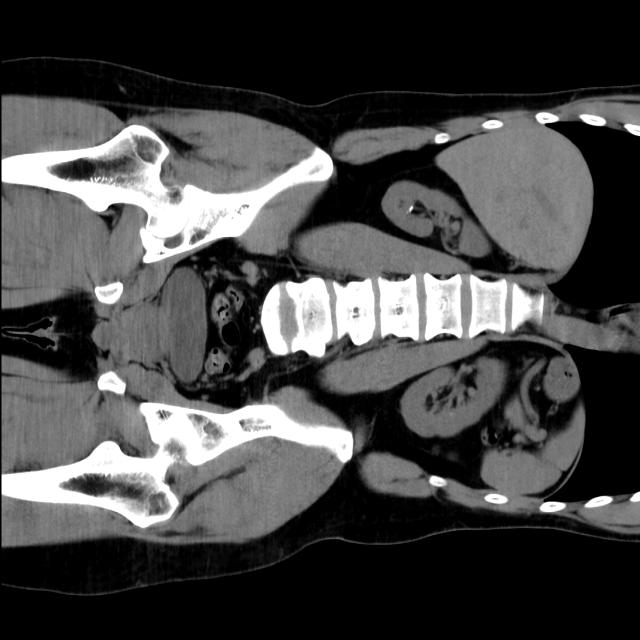kidneystone: (407, 206, 414, 214)
